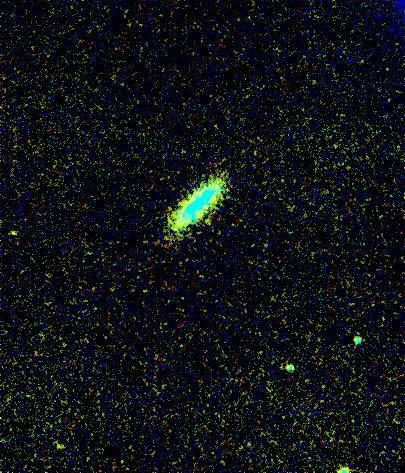star: (190, 201, 220, 231)
